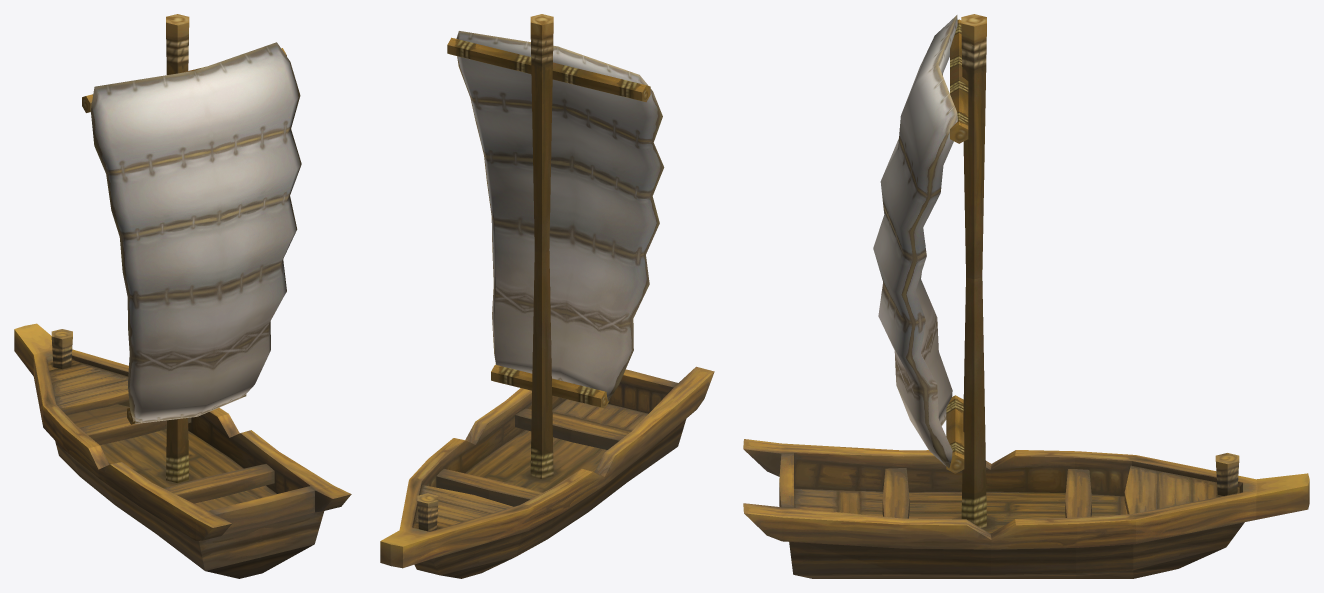
The model's file is Stage_CaoYuan_chuan02.FBX.
3 views of the same model, side by side, from view 1: azimuth 30°, elevation 25°; view 2: azimuth 150°, elevation 25°; view 3: azimuth 270°, elevation 25° (orthographic). The views are drawn at different scales.
Visible parts, largest first — view 1: Stage_CaoYuan_chuan02; view 2: Stage_CaoYuan_chuan02; view 3: Stage_CaoYuan_chuan02.
Part boxes in pixels (x1,y1,x2,y2): Stage_CaoYuan_chuan02: (14, 14, 351, 578); Stage_CaoYuan_chuan02: (380, 14, 714, 578); Stage_CaoYuan_chuan02: (743, 14, 1309, 578).
Bounding box in the file's own units: 287 × 669 × 622.
